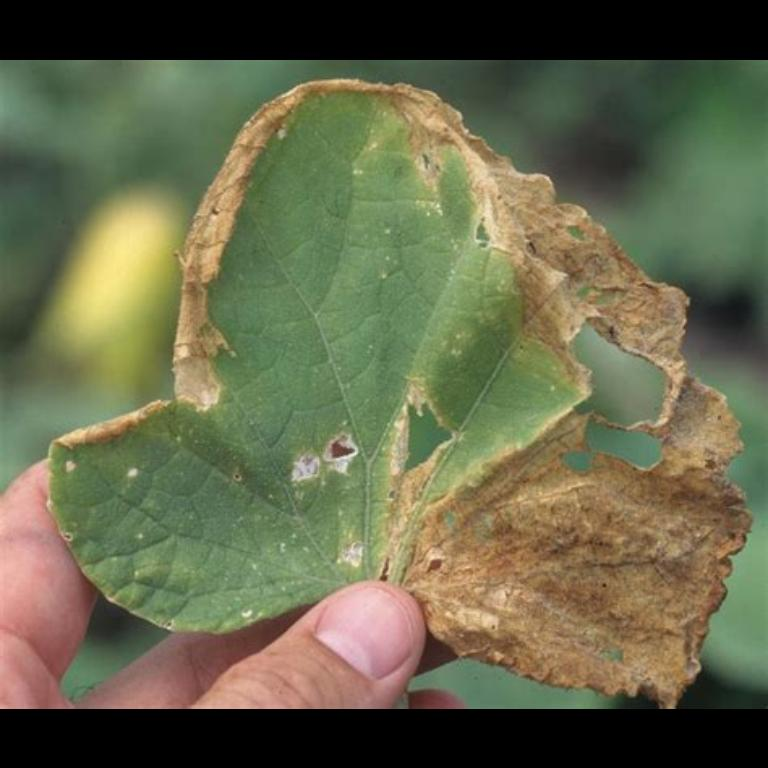blight: (325, 72, 711, 396), (422, 438, 728, 674)
